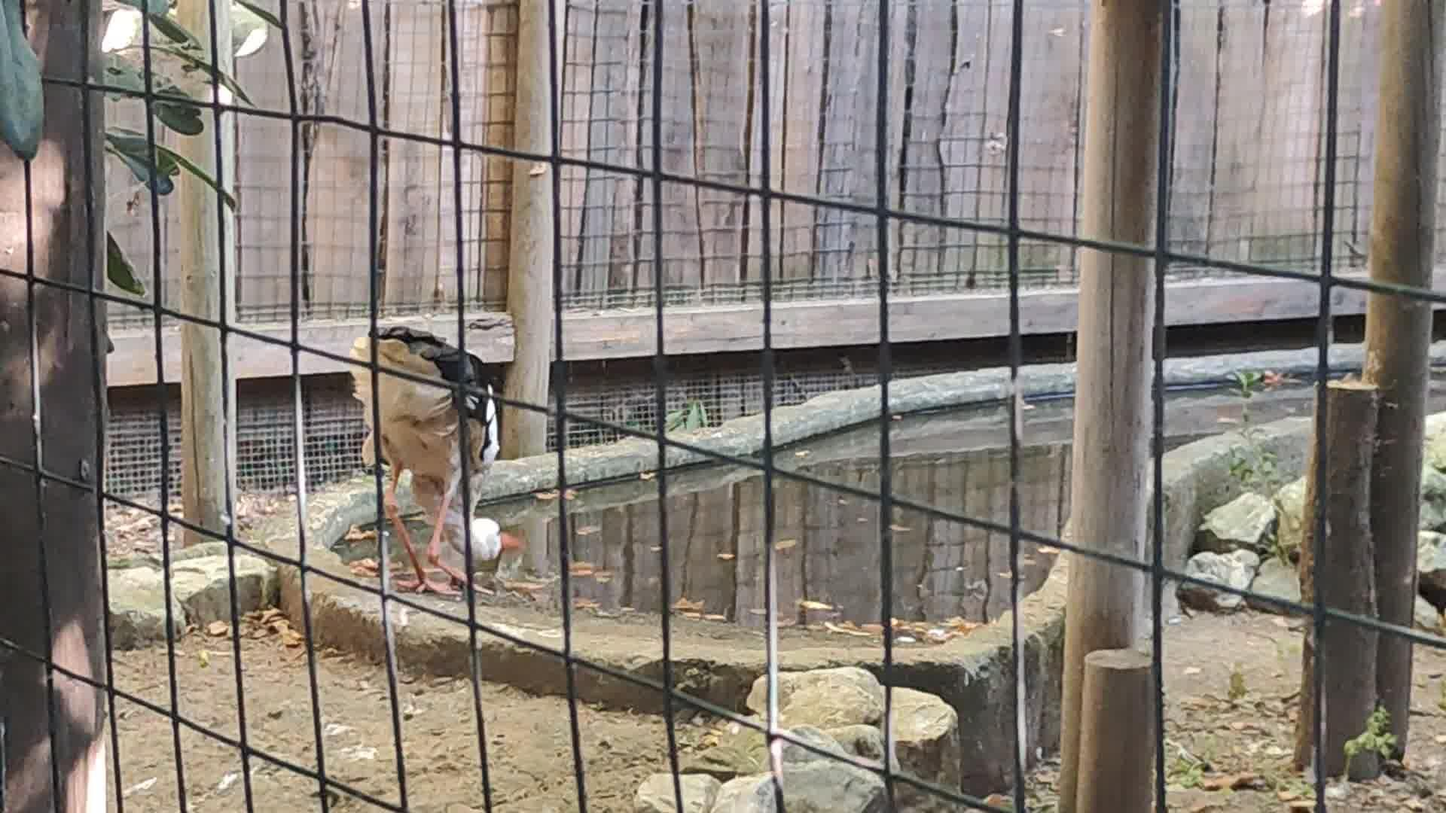apple: (349, 325, 520, 596)
